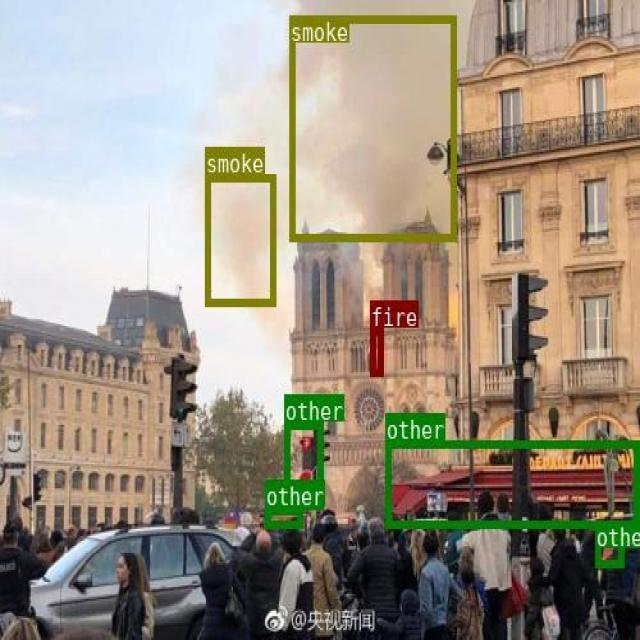fire: (370, 327, 382, 375)
smoke: (289, 14, 455, 240), (205, 173, 274, 304)
